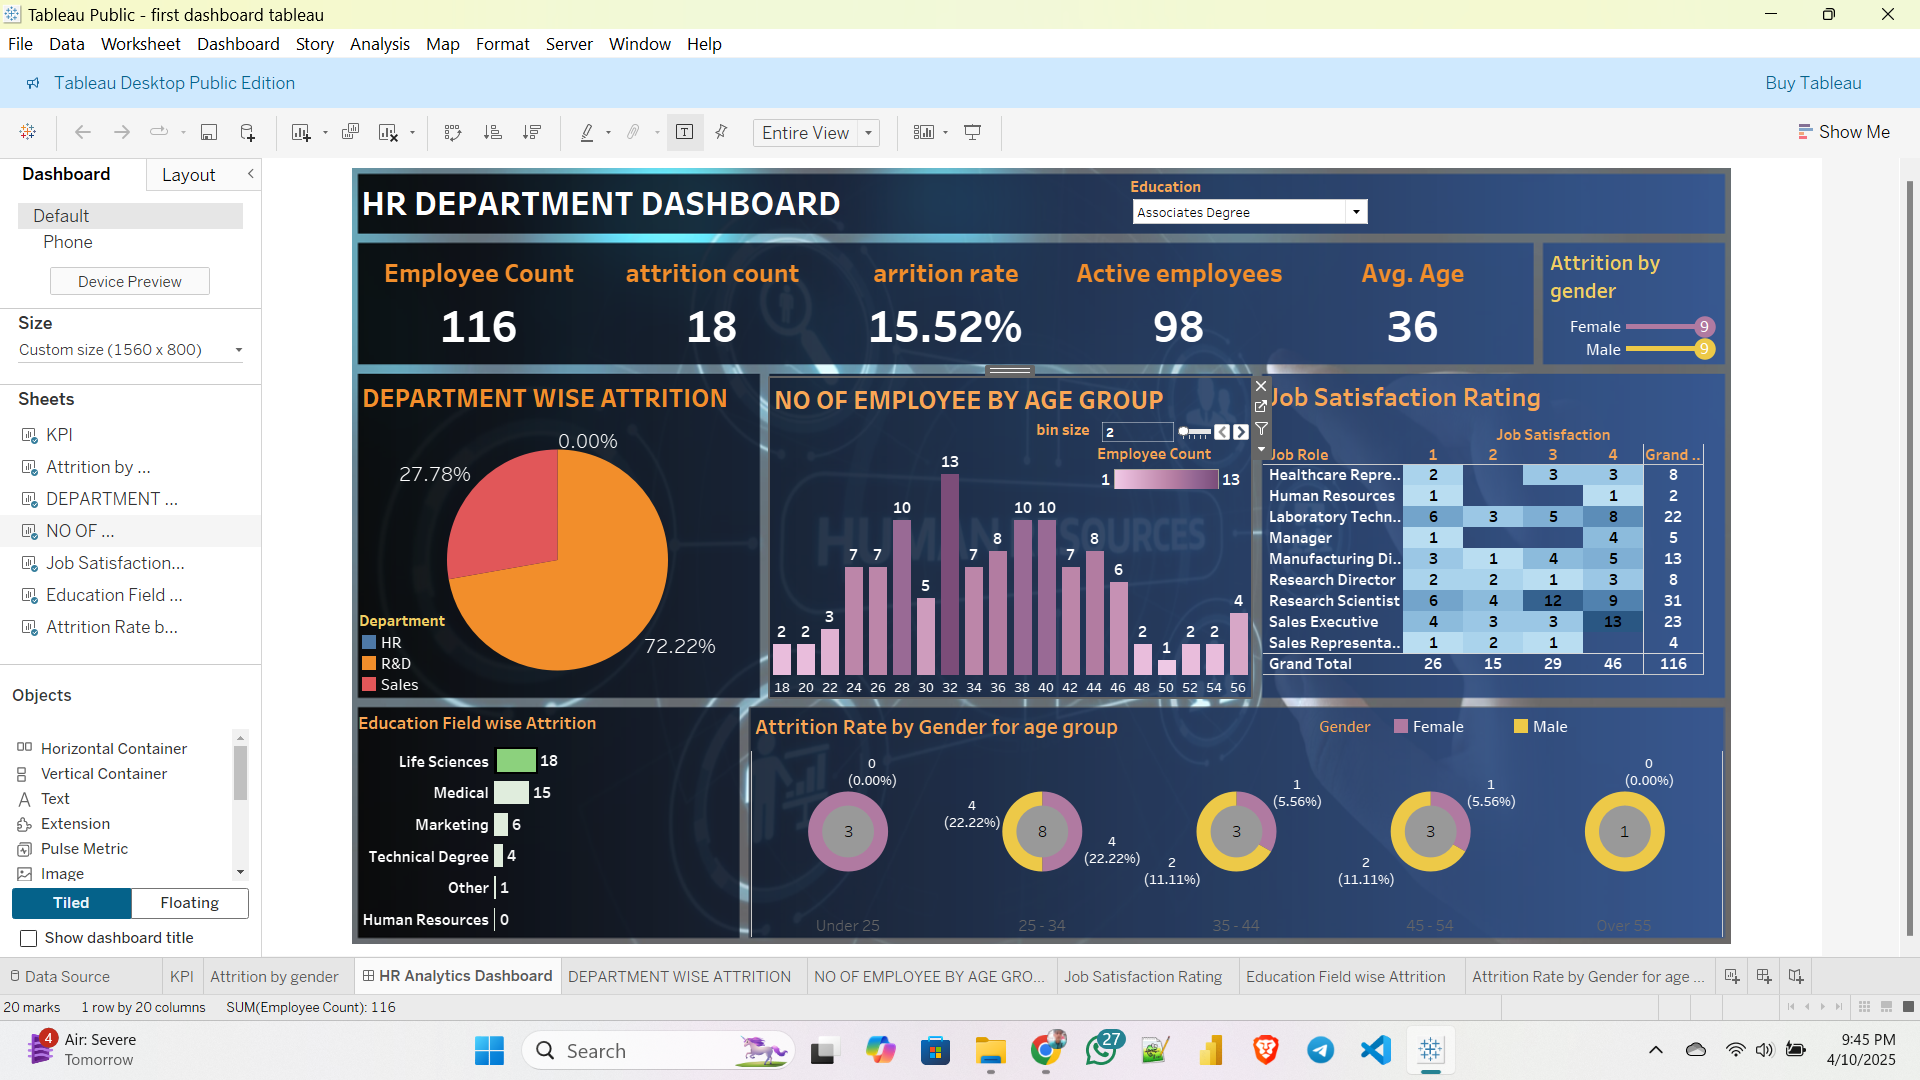

The page's visual inventory and layout, read from the dashboard file:
{"tool":"tableau","page":{"name":"HR Analytics Dashboard","canvas":[1560,800],"ordinal":0},"visuals":[{"type":"image","param":"E:/tableau projects/HR background.pptx.png","box":[8,8,1544,784]},{"type":"text","box":[96,17,763,57]},{"type":"filter","title":"DEPARTMENT WISE ATTRITION","param":"[federated.1pabdoo1jba13q1fch76k03v00v7].[none:Education:nk]","box":[868,20,241,50]},{"type":"worksheet","title":"Attrition by gender","mark":"Automatic","rows":["Gender"],"cols":["Calculation_447545279012122624","Calculation_447545279012122624"],"box":[1284,88,177,116]},{"type":"worksheet","title":"KPI","mark":"Automatic","box":[100,93,1168,111]},{"type":"worksheet","title":"Job Satisfaction Rating","mark":"Square","rows":["Job Role"],"cols":["Job Satisfaction"],"box":[1001,219,458,323]},{"type":"worksheet","title":"DEPARTMENT WISE ATTRITION","mark":"Pie","box":[96,220,399,319]},{"type":"worksheet","title":"NO OF EMPLOYEE BY AGE GROUP","mark":"Automatic","rows":["Employee Count"],"cols":["Age (bin)"],"box":[508,222,481,319]},{"type":"parameter","param":"[Parameters].[Parameter 1]","box":[765,263,225,23]},{"type":"legend","title":"NO OF EMPLOYEE BY AGE GROUP","param":"[federated.1pabdoo1jba13q1fch76k03v00v7].[sum:Employee Count:qk]","box":[835,287,148,46]},{"type":"legend","title":"DEPARTMENT WISE ATTRITION","param":"[federated.1pabdoo1jba13q1fch76k03v00v7].[none:Department:nk]","box":[97,454,140,85]},{"type":"worksheet","title":"Education Field wise Attrition","mark":"Automatic","rows":["Education Field"],"cols":["Calculation_447545279012122624"],"box":[92,550,383,229]},{"type":"worksheet","title":"Attrition Rate by Gender for age group ","mark":"Pie","rows":["Calculation_999799183725760513","Calculation_999799183725760513"],"cols":["CF_age band"],"box":[489,552,972,230]},{"type":"legend","title":"Attrition Rate by Gender for age group ","param":"[federated.1pabdoo1jba13q1fch76k03v00v7].[none:Gender:nk]","box":[1057,560,400,28]}]}

Visuals, with their boxes on the page's 1560x800 design canvas (x1, y1, x2, y2). These are canvas units, not pixel positions in the 1920x1080 screenshot, which may show the page scaled, cropped or inside an application window:
image: [left=8, top=8, right=1552, bottom=792]
text: [left=96, top=17, right=859, bottom=74]
"DEPARTMENT WISE ATTRITION" filter: [left=868, top=20, right=1109, bottom=70]
"Attrition by gender" worksheet: [left=1284, top=88, right=1461, bottom=204]
"KPI" worksheet: [left=100, top=93, right=1268, bottom=204]
"Job Satisfaction Rating" worksheet (Square marks): [left=1001, top=219, right=1459, bottom=542]
"DEPARTMENT WISE ATTRITION" worksheet (Pie marks): [left=96, top=220, right=495, bottom=539]
"NO OF EMPLOYEE BY AGE GROUP" worksheet: [left=508, top=222, right=989, bottom=541]
parameter: [left=765, top=263, right=990, bottom=286]
"NO OF EMPLOYEE BY AGE GROUP" legend: [left=835, top=287, right=983, bottom=333]
"DEPARTMENT WISE ATTRITION" legend: [left=97, top=454, right=237, bottom=539]
"Education Field wise Attrition" worksheet: [left=92, top=550, right=475, bottom=779]
"Attrition Rate by Gender for age group " worksheet (Pie marks): [left=489, top=552, right=1461, bottom=782]
"Attrition Rate by Gender for age group " legend: [left=1057, top=560, right=1457, bottom=588]
